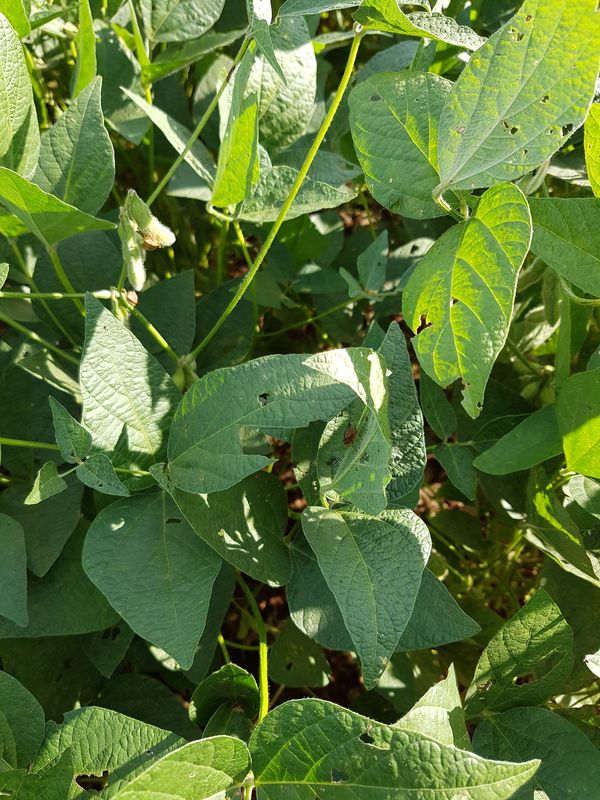Euschistus_heros_adulto: (335, 418, 365, 452)
